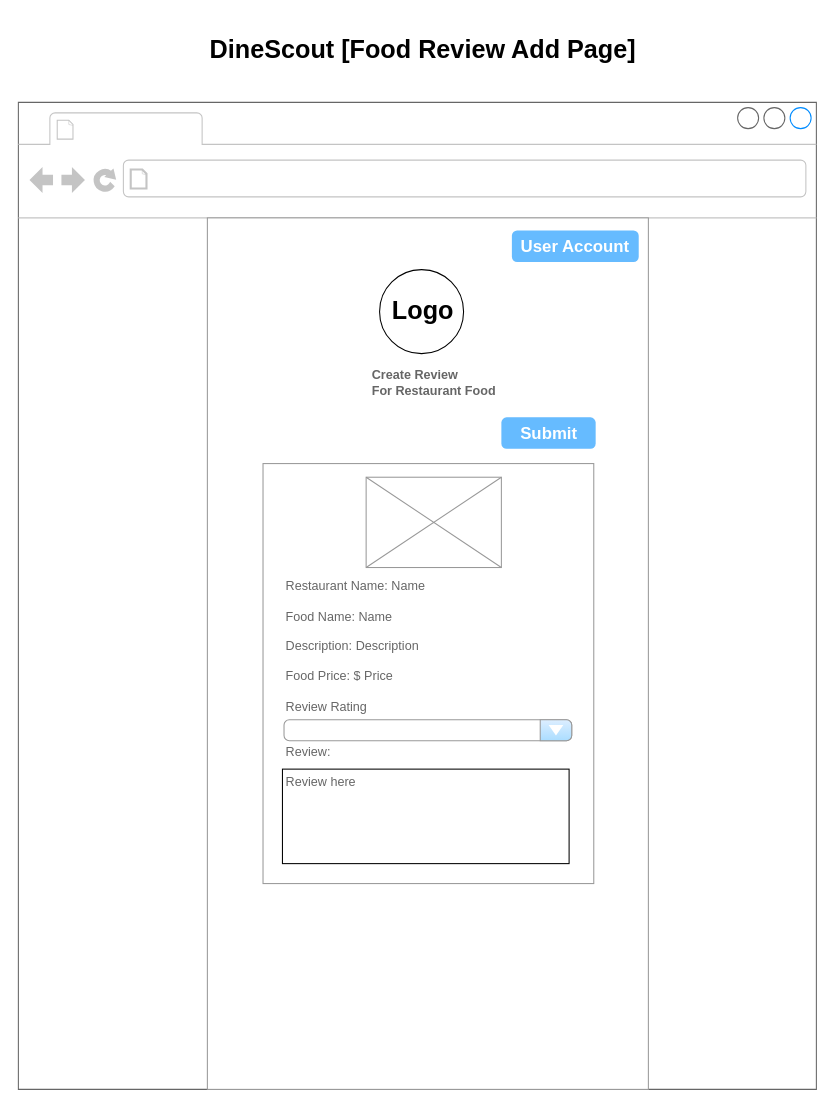
Image size: 835x1108. Some labels were removed from this diagram. Each missing label, with the box of its shape:
DineScout: (80, 114, 197, 142)
https://www.dinescout.com/create_review: (154, 164, 417, 193)
